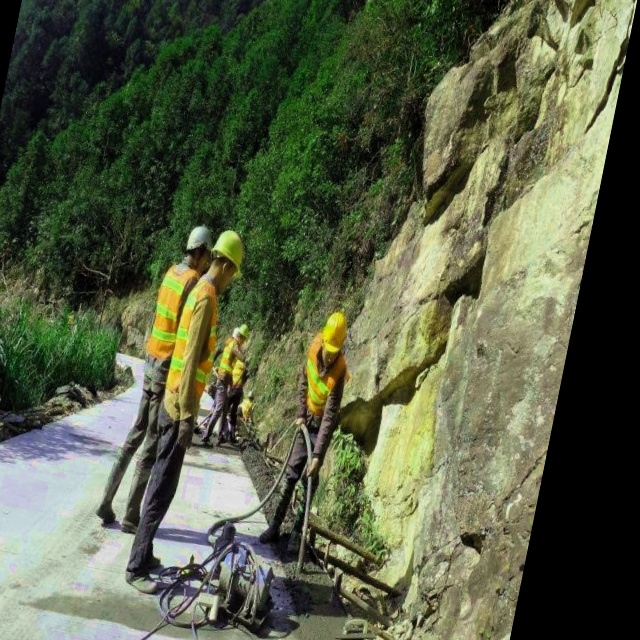Con_Casco: (207, 227, 251, 284), (181, 221, 216, 269)
Con_Chaleco: (157, 274, 233, 425), (142, 262, 203, 366)
